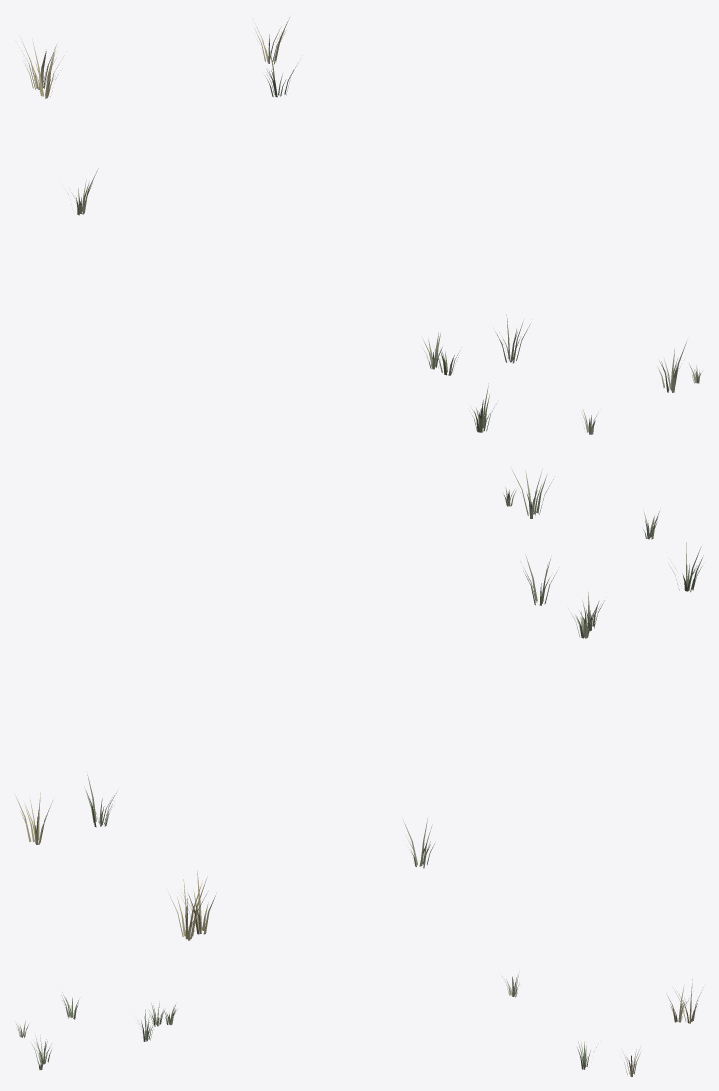
The model's file is AE_Grass_-6_-1.fbx.
3 views of the same model, one above another, from view 1: azimuth 30°, elevation 25°; view 2: azimuth 150°, elevation 25°; view 3: azimuth 270°, elevation 25° (orthographic). The views are drawn at different scales.
Visible parts, largest first — view 1: AE_Grass_-6_-1_LOD0; view 2: AE_Grass_-6_-1_LOD0; view 3: AE_Grass_-6_-1_LOD0.
Part boxes in pixels (<box>): AE_Grass_-6_-1_LOD0: <box>19,17,702,434</box>; AE_Grass_-6_-1_LOD0: <box>15,469,703,940</box>; AE_Grass_-6_-1_LOD0: <box>15,972,703,1076</box>.
Size of what is drawn, in the model's own units: 581 by 115 by 1640.
